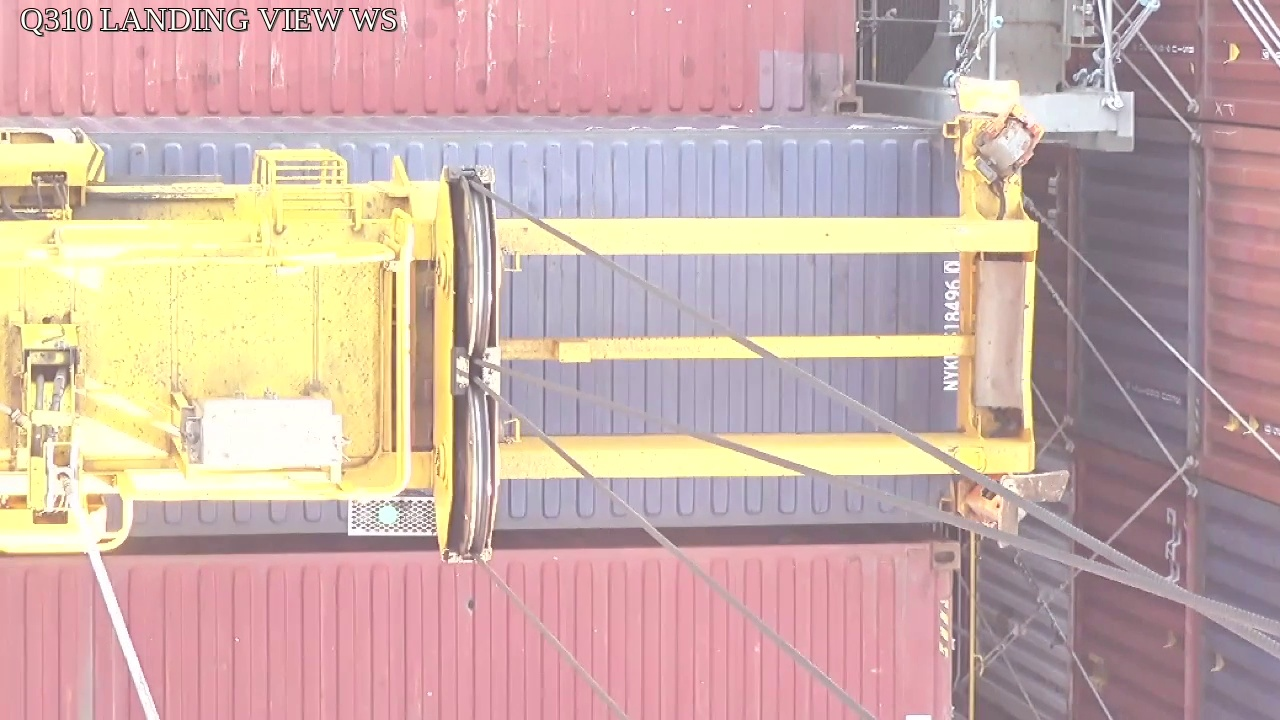right: (428, 163, 500, 564)
